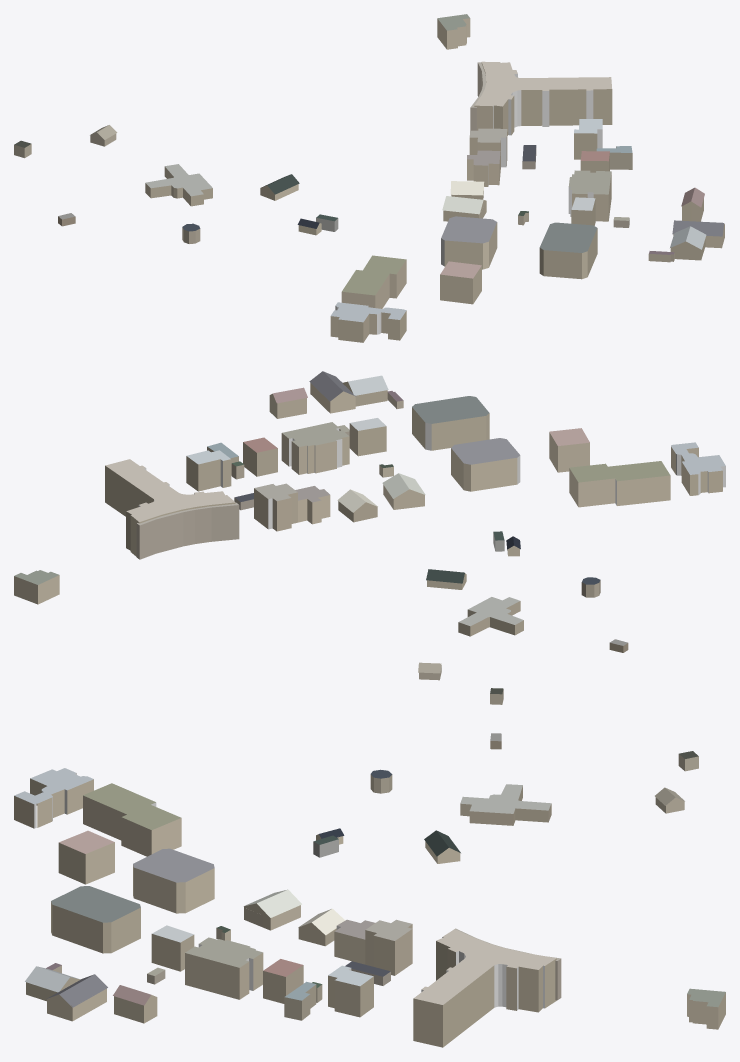
The picture shows the model from 3 angles, top to bottom: view 1: azimuth 30°, elevation 25°; view 2: azimuth 150°, elevation 25°; view 3: azimuth 270°, elevation 25°; orthographic projection. The views are drawn at different scales.
Parts seen in each view (by area): view 1: tuile; view 2: tuile; view 3: tuile.
Part boxes in pixels (bbox=[...]): tuile: bbox=[14, 14, 724, 342]; tuile: bbox=[14, 371, 725, 704]; tuile: bbox=[14, 733, 725, 1047].
Size of the model in its own units: 264 by 17.84 by 260.
